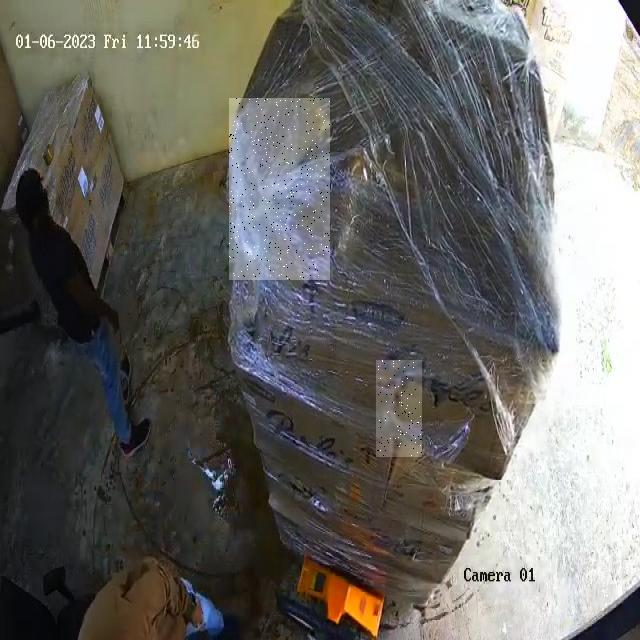leakage: (378, 361, 422, 456), (376, 454, 378, 456)
squeeze: (229, 99, 330, 280)
